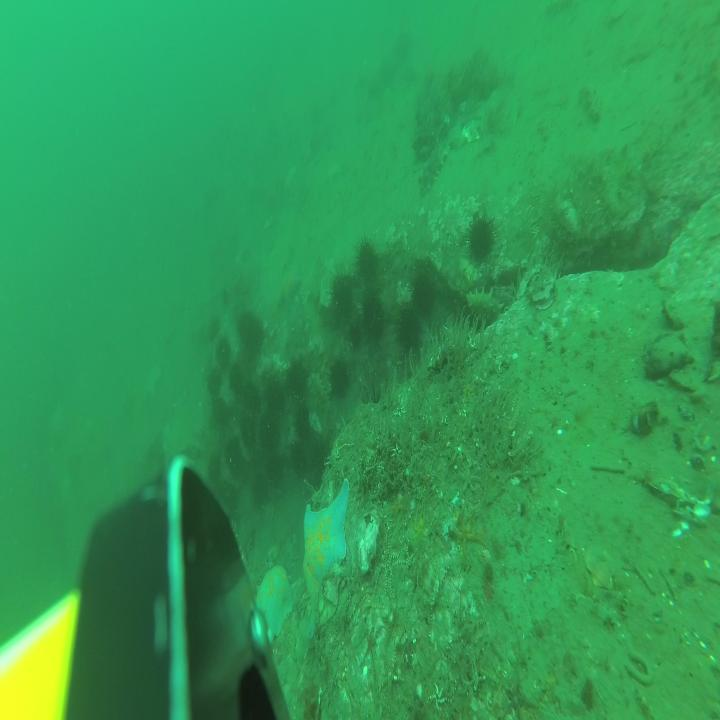echinus: (466, 212, 499, 268), (328, 270, 358, 323), (364, 383, 392, 434), (396, 304, 422, 358), (355, 234, 380, 289), (411, 268, 435, 317), (364, 291, 384, 344), (288, 358, 309, 405), (330, 358, 352, 397), (256, 418, 278, 456), (225, 434, 244, 476), (291, 439, 310, 478), (218, 480, 240, 512), (210, 398, 230, 433), (264, 376, 284, 411), (248, 317, 265, 356), (205, 450, 222, 487), (267, 450, 285, 484), (309, 439, 326, 475), (239, 412, 256, 447), (204, 365, 221, 400), (294, 405, 310, 441), (238, 308, 254, 343), (228, 365, 244, 399), (241, 386, 259, 416), (215, 336, 231, 369), (251, 473, 268, 504), (207, 316, 221, 344), (349, 318, 363, 346)
holothurian: (419, 138, 450, 197), (468, 287, 505, 332), (580, 85, 604, 127), (312, 371, 332, 411), (544, 0, 575, 18), (538, 114, 554, 142)
scallop: (584, 545, 616, 590), (462, 118, 483, 143), (264, 542, 280, 564), (264, 498, 274, 525)
starfish: (302, 474, 350, 638), (255, 564, 294, 645), (455, 507, 487, 564), (276, 265, 301, 313), (413, 509, 431, 541), (391, 496, 403, 515)
